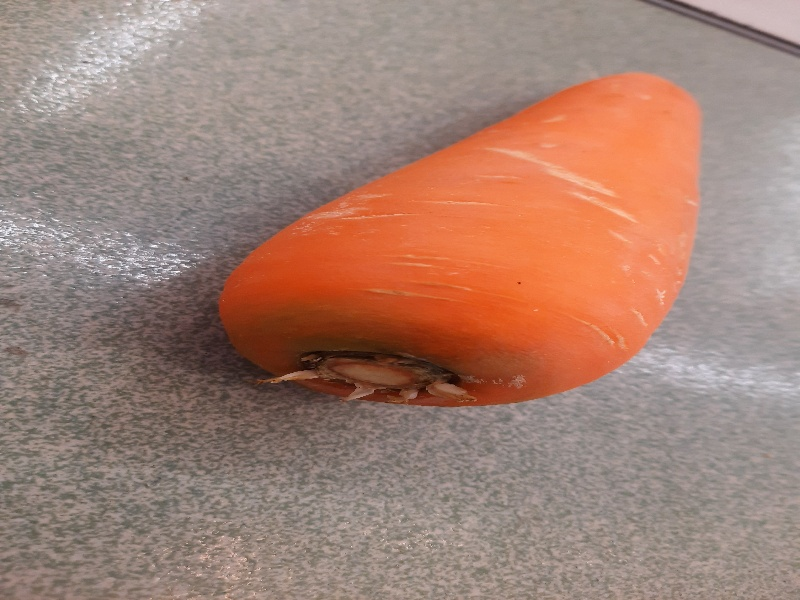vege: (217, 66, 705, 423)
